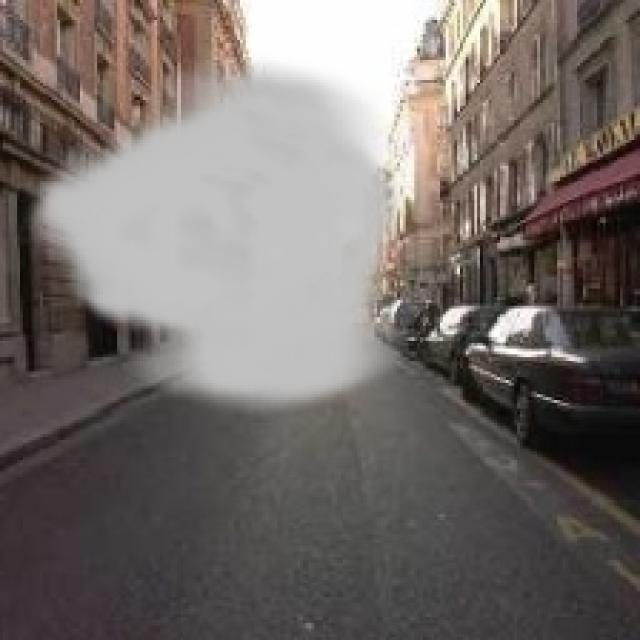smoke: (23, 52, 408, 414)
